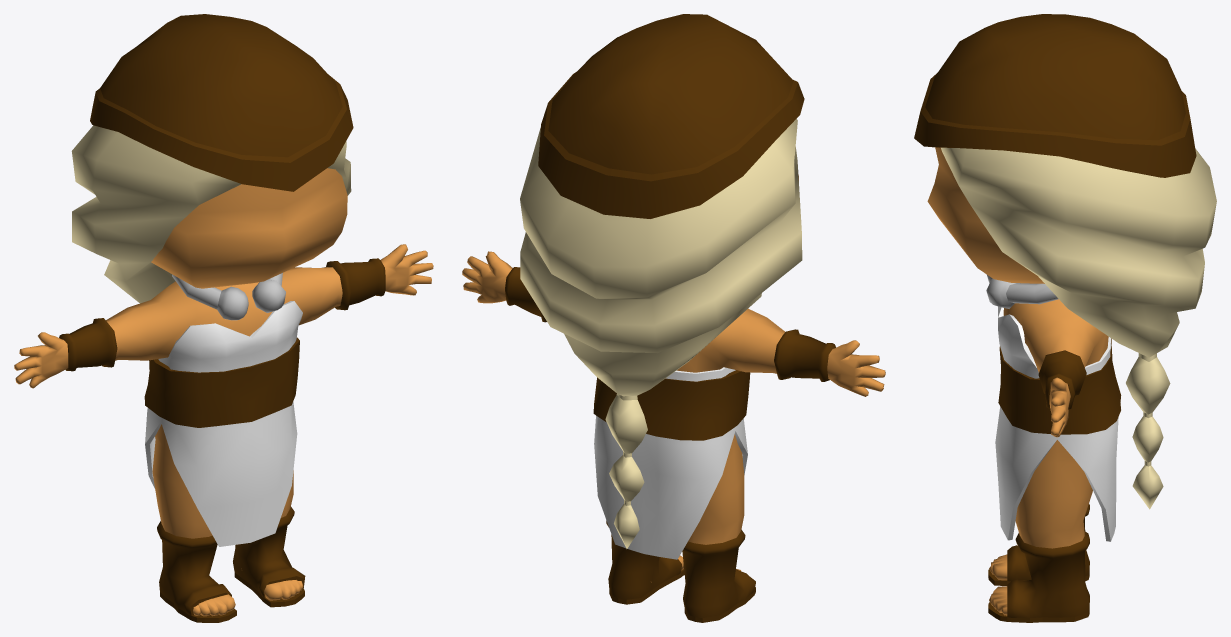
File: Idun_Detach.FBX
3 renders of one model, left to right at view 1: azimuth 30°, elevation 25°; view 2: azimuth 150°, elevation 25°; view 3: azimuth 270°, elevation 25°, orthographic.
Visible parts, largest first — view 1: Helm, Body, Kleid, Haar, Gurte, stiefel, Manschetten, Torque; view 2: Haar, Helm, Kleid, Body, stiefel, Gurte, Manschetten; view 3: Haar, Helm, Body, Kleid, stiefel, Gurte, Manschetten, Torque.
Part boxes in pixels (x1,y1,x2,y2): Helm: (90, 14, 353, 191); Body: (14, 168, 433, 616); Kleid: (145, 301, 302, 546); Haar: (71, 125, 351, 303); Gurte: (144, 337, 299, 427); stiefel: (157, 506, 305, 622); Manschetten: (59, 258, 385, 371); Torque: (172, 273, 285, 320); Haar: (520, 118, 802, 548); Helm: (538, 14, 804, 218); Kleid: (594, 367, 747, 559); Body: (462, 174, 885, 582); stiefel: (606, 520, 755, 622); Gurte: (593, 370, 750, 440); Manschetten: (505, 267, 835, 381); Haar: (941, 147, 1216, 509); Helm: (914, 14, 1196, 177); Body: (927, 147, 1108, 615); Kleid: (995, 306, 1118, 541); stiefel: (988, 504, 1089, 622); Gurte: (998, 338, 1121, 434); Manschetten: (1038, 350, 1086, 409); Torque: (986, 275, 1058, 308).
Bounding box in the file's own units: 82.26 × 105 × 50.74.
